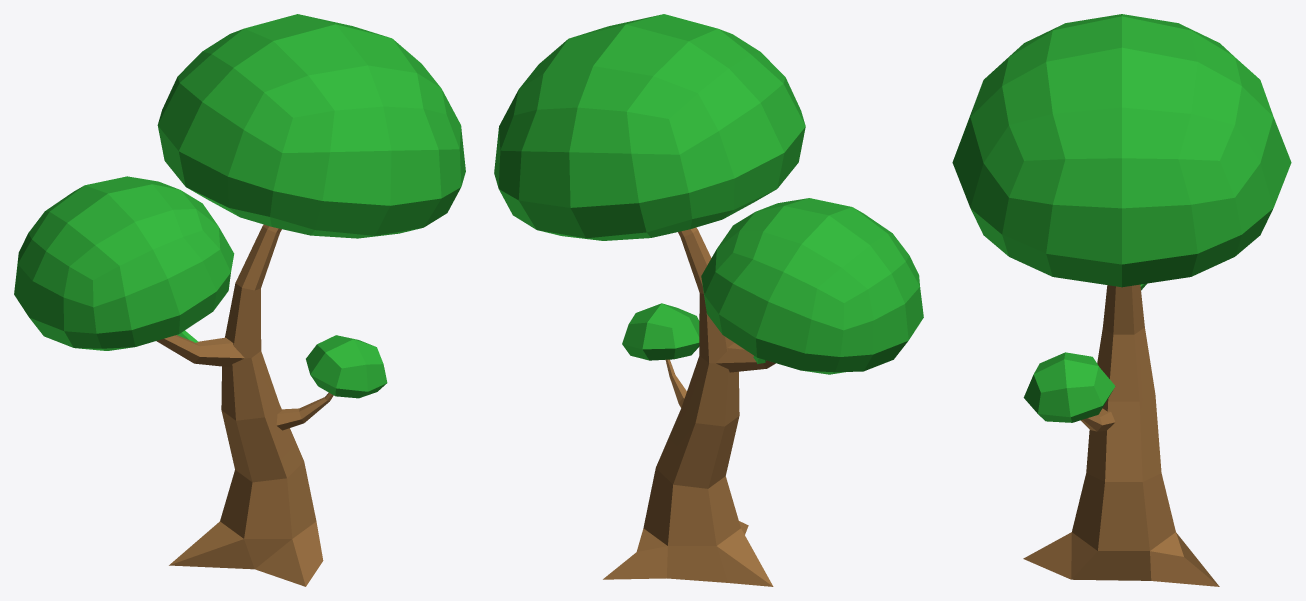
Rendered from tree2.fbx.
3 renders of one model, left to right at view 1: azimuth 30°, elevation 25°; view 2: azimuth 150°, elevation 25°; view 3: azimuth 270°, elevation 25°, orthographic. The views are drawn at different scales.
Parts seen in each view (by area): view 1: Tree.005; view 2: Tree.005; view 3: Tree.005.
Part boxes in pixels (x1,y1,x2,y2): Tree.005: [14, 14, 465, 586]; Tree.005: [494, 14, 923, 586]; Tree.005: [952, 14, 1291, 586].
Bounding box in the file's own units: 903 × 1095 × 611.
